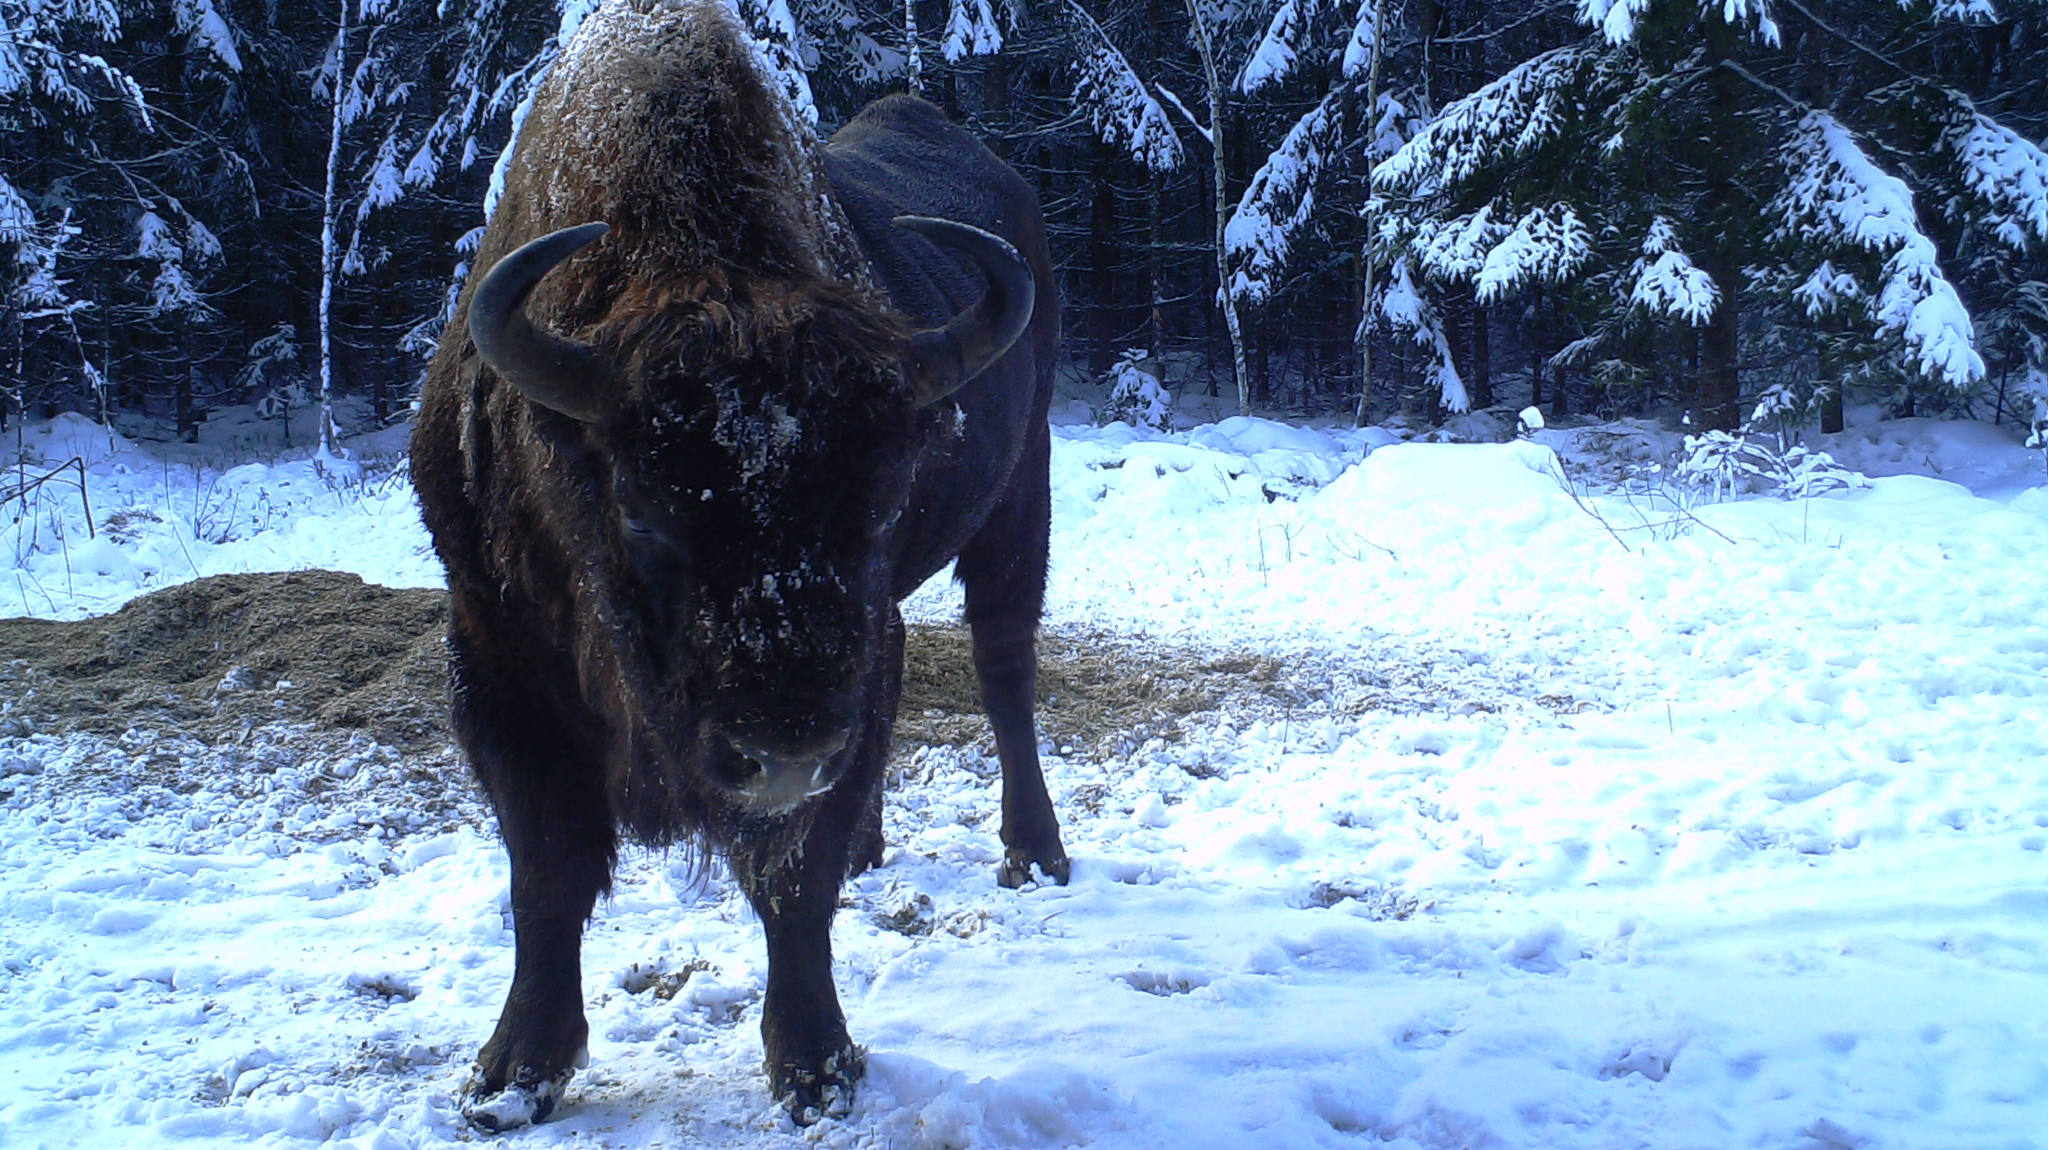zubr: (276, 1, 1183, 1115)
